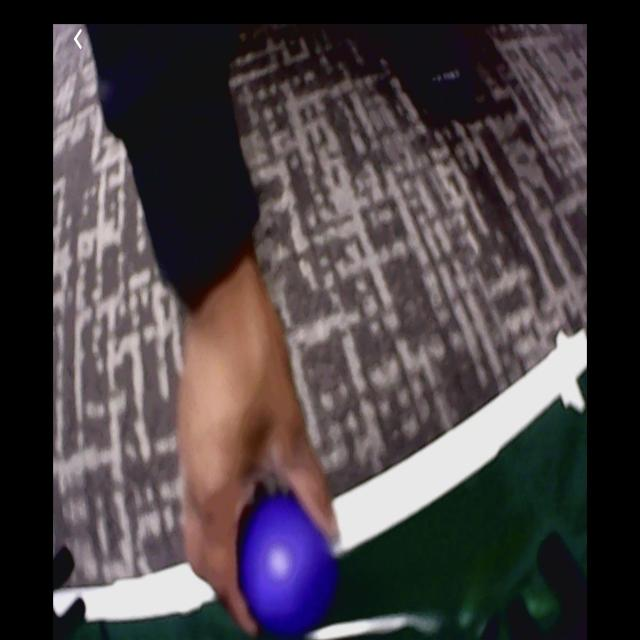ball: (239, 496, 330, 638)
